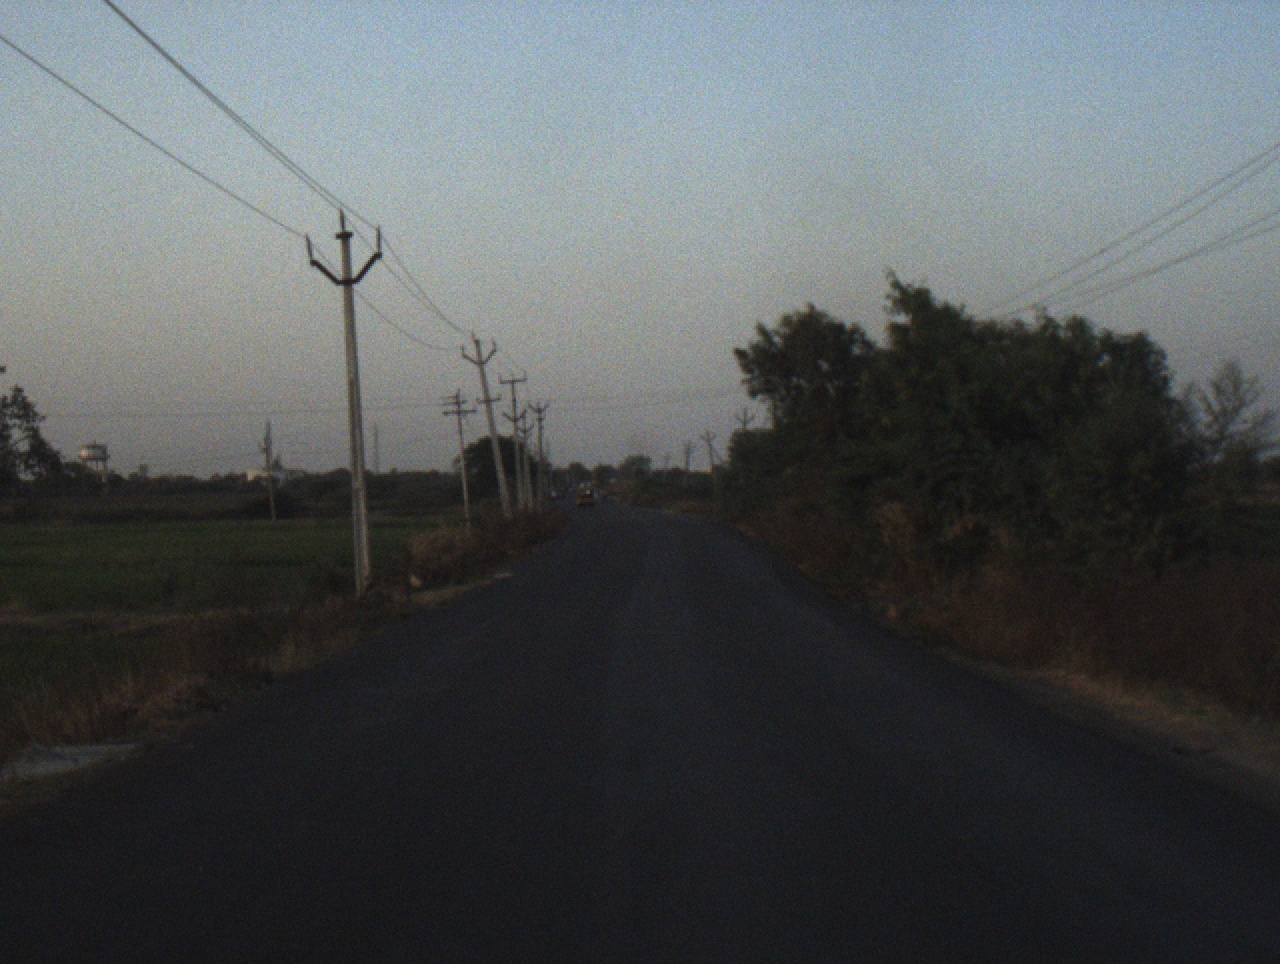autorickshaw: (573, 484, 596, 508)
vehicle fallback: (548, 486, 561, 500)
